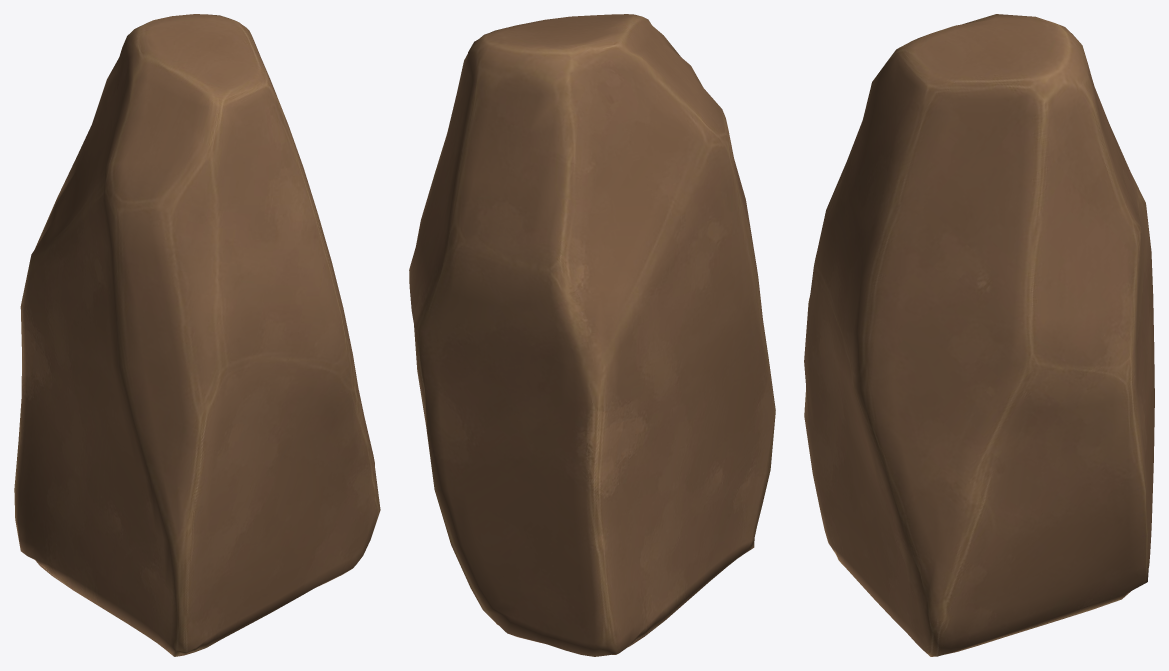
The model's file is pedra.gltf.
The picture shows the model from 3 angles, left to right: view 1: azimuth 30°, elevation 25°; view 2: azimuth 150°, elevation 25°; view 3: azimuth 270°, elevation 25°; orthographic projection. The views are drawn at different scales.
Visible parts, largest first — view 1: Rock_lod0; view 2: Rock_lod0; view 3: Rock_lod0.
Boxes of the visible parts, <box> form: Rock_lod0: <box>14,14,380,656</box>; Rock_lod0: <box>409,14,775,656</box>; Rock_lod0: <box>804,14,1154,656</box>.
Size of the model in its own units: 1.42 by 2.58 by 1.47.
1 material, 1 textured.
